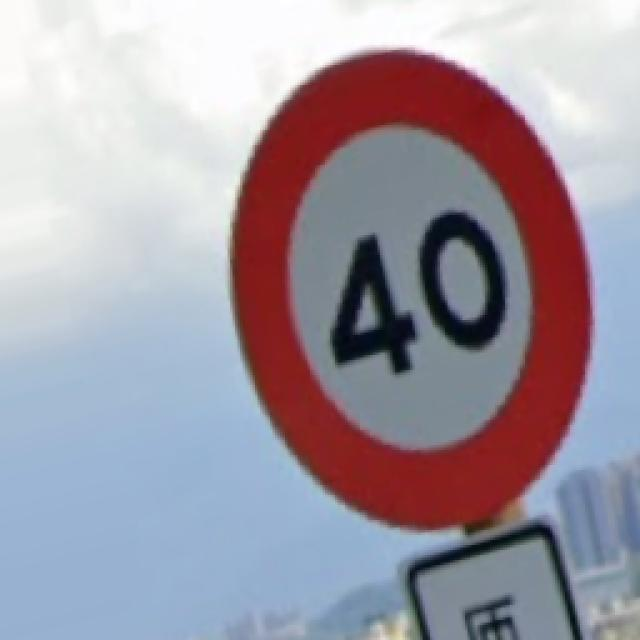Speed Limit -40-: (232, 50, 588, 528)
